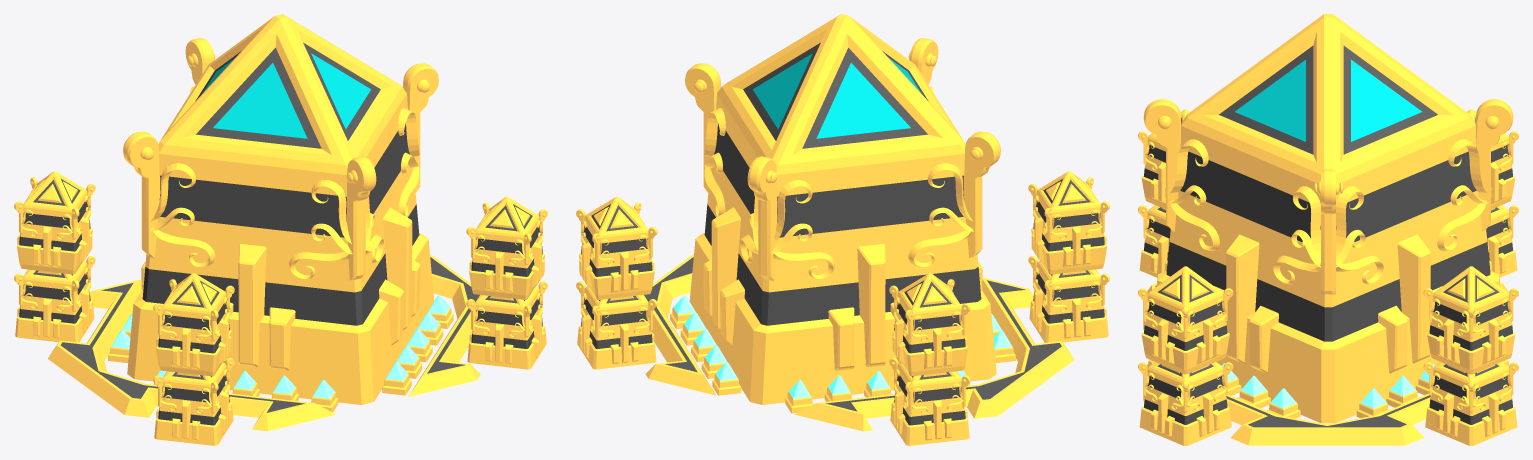
The model's file is Religious_Sarcophagus_Medium.fbx.
The picture shows the model from 3 angles, left to right: view 1: azimuth 30°, elevation 25°; view 2: azimuth 150°, elevation 25°; view 3: azimuth 270°, elevation 25°; orthographic projection. The views are drawn at different scales.
Visible parts, largest first — view 1: block_bigboy, blocks, Religious_Sarcophagus_Medium, posts, swirls, miniblock_lights; view 2: block_bigboy, blocks, Religious_Sarcophagus_Medium, posts, swirls, miniblock_lights; view 3: block_bigboy, blocks, swirls, posts, Religious_Sarcophagus_Medium, miniblock_lights.
Part boxes in pixels (x1,y1,x2,y2): block_bigboy: [127, 14, 434, 404]; blocks: [14, 171, 547, 445]; Religious_Sarcophagus_Medium: [48, 255, 480, 431]; posts: [123, 38, 438, 280]; swirls: [150, 86, 419, 279]; miniblock_lights: [108, 295, 453, 412]; block_bigboy: [689, 14, 996, 404]; blocks: [576, 171, 1109, 445]; Religious_Sarcophagus_Medium: [644, 254, 1074, 431]; posts: [685, 38, 1000, 280]; swirls: [704, 86, 973, 279]; miniblock_lights: [670, 295, 1015, 413]; block_bigboy: [1156, 14, 1500, 423]; blocks: [1138, 109, 1518, 445]; swirls: [1168, 139, 1488, 284]; posts: [1143, 99, 1513, 294]; Religious_Sarcophagus_Medium: [1143, 282, 1509, 445]; miniblock_lights: [1148, 360, 1508, 418].
Bounding box in the file's own units: 1579 × 1247 × 1289.
